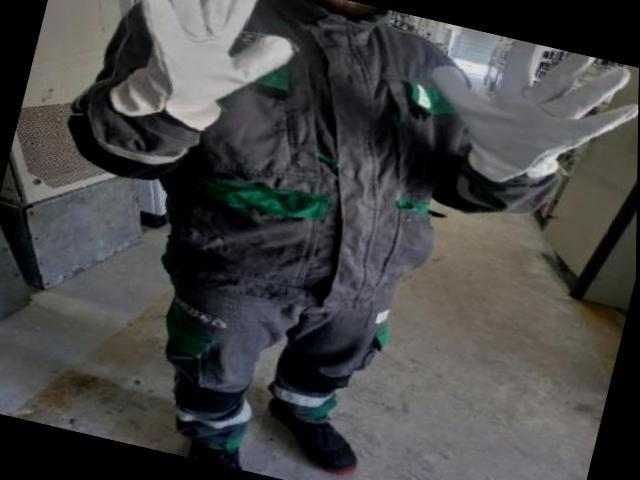Hand-in-Glove: (406, 21, 640, 205), (86, 0, 308, 157)
